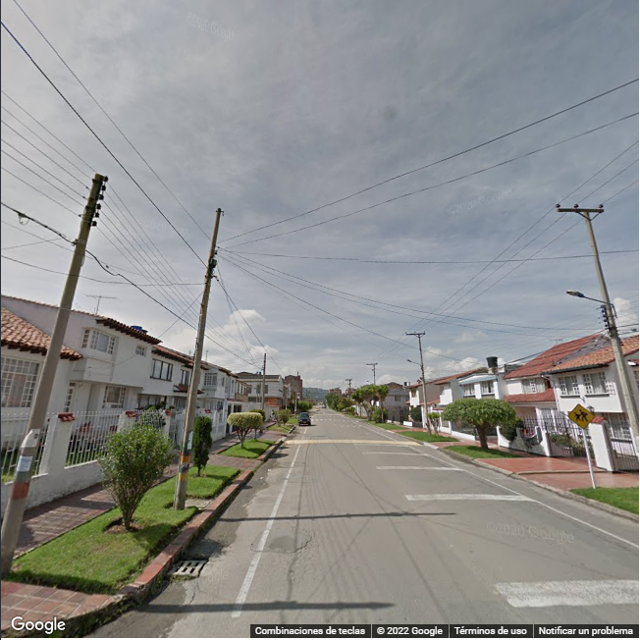D00: (183, 581, 198, 613)
D20: (278, 548, 317, 580)
